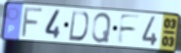4: (43, 8, 63, 42), (140, 15, 159, 48)
D: (68, 10, 90, 42)
F: (116, 13, 143, 46), (20, 7, 45, 39)
Q: (91, 11, 113, 44)
